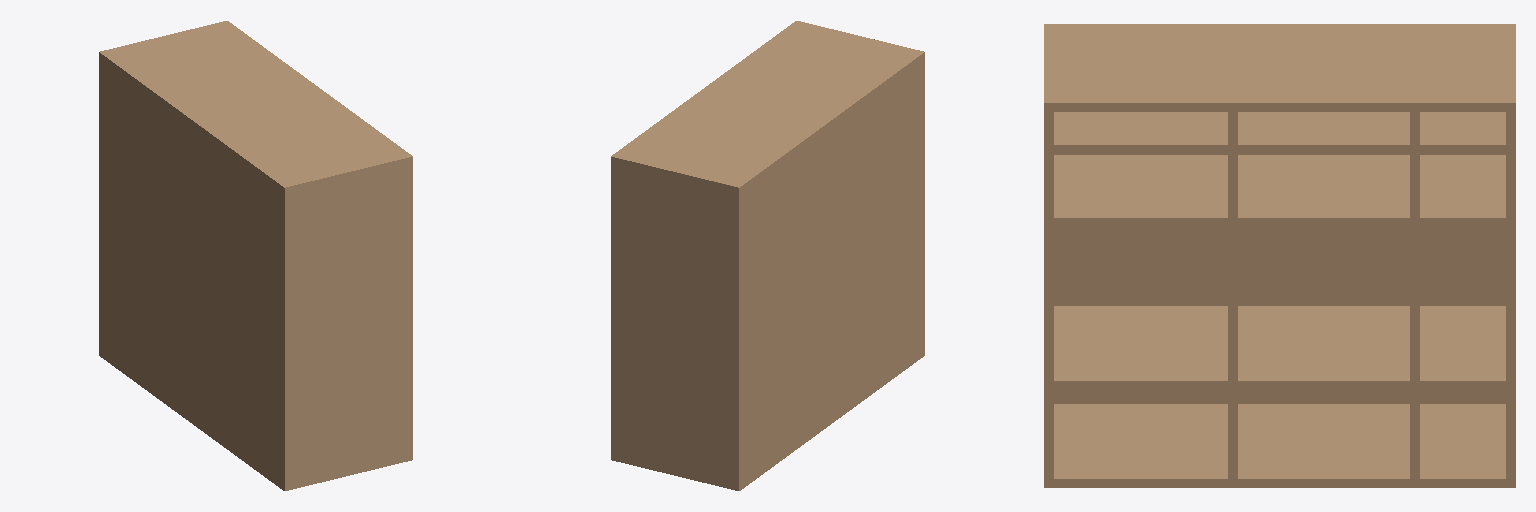
URDF robot description (plane):
<?xml version="2.0" ?> 
<robot name="plane"> 

  <link name="shelve_bottom">
    <contact>
        <lateral_friction value="1"/>
    </contact>

    <inertial>
      <origin rpy="0 0 0" xyz="0 0 0"/>
      <mass value=".0"/>
      <inertia ixx="0" ixy="0" ixz="0" iyy="0" iyz="0" izz="0"/>
    </inertial>

    <visual>
      <origin rpy="0 0 0" xyz="0.0 0.0 0.012141786804520277"/>
      <geometry>
        <box size="0.457116658030754 1.1431834918243162 0.024283573609040553"/>
      </geometry>
      <material name="table_gray"/>
    </visual>

    <collision>
      <origin rpy="0 0 0" xyz="0.0 0.0 0.012141786804520277"/>
      <geometry>
        <box size="0.457116658030754 1.1431834918243162 0.024283573609040553"/>
      </geometry>
    </collision>

  </link>

  <link name="shelve_top">
    <contact>
        <lateral_friction value="1"/>
    </contact>

    <inertial>
      <origin rpy="0 0 0" xyz="0 0 0"/>
      <mass value=".0"/>
      <inertia ixx="0" ixy="0" ixz="0" iyy="0" iyz="0" izz="0"/>
    </inertial>

    <visual>
      <origin rpy="0 0 0" xyz="0.0 0.0 1.0190993803457882"/>
      <geometry>
        <box size="0.457116658030754 1.1431834918243162 0.024283573609040553"/>
      </geometry>
      <material name="table_gray"/>
    </visual>

    <collision>
      <origin rpy="0 0 0" xyz="0.0 0.0 1.0190993803457882"/>
      <geometry>
        <box size="0.457116658030754 1.1431834918243162 0.024283573609040553"/>
      </geometry>
    </collision>

  </link>

  <joint name="joint_bt" type="fixed">
    <parent link="shelve_bottom"/>
    <child link="shelve_top"/>
    <origin rpy="0 0 0.0" xyz="0 0 0.0"/>
  </joint>

  <link name="shelve_back">
    <contact>
        <lateral_friction value="1"/>
    </contact>

    <inertial>
      <origin rpy="0 0 0" xyz="0 0 0"/>
      <mass value=".0"/>
      <inertia ixx="0" ixy="0" ixz="0" iyy="0" iyz="0" izz="0"/>
    </inertial>

    <visual>
      <origin rpy="0 0 0" xyz="-0.21641654221085674 0 0.5156205835751543"/>
      <geometry>
        <box size="0.024283573609040553 1.1431834918243162 0.9826740199322275"/>
      </geometry>
      <material name="table_gray"/>
    </visual>

    <collision>
      <origin rpy="0 0 0" xyz="-0.21641654221085674 0 0.5156205835751543"/>
      <geometry>
        <box size="0.024283573609040553 1.1431834918243162 0.9826740199322275"/>
      </geometry>
    </collision>

  </link>

  <joint name="joint2_bb" type="fixed">
    <parent link="shelve_bottom"/>
    <child link="shelve_back"/>
    <origin rpy="0 0 0.0" xyz="0 0 0.0"/>
  </joint>

  <link name="shelve_left">
    <contact>
        <lateral_friction value="1"/>
    </contact>

    <inertial>
      <origin rpy="0 0 0" xyz="0 0 0"/>
      <mass value=".0"/>
      <inertia ixx="0" ixy="0" ixz="0" iyy="0" iyz="0" izz="0"/>
    </inertial>

    <visual>
      <origin rpy="0 0 0" xyz="0.012141786804520277 -0.5594499591076378 0.5156205835751543"/>
      <geometry>
        <box size="0.4328330844217135 0.024283573609040553 0.9826740199322275"/>
      </geometry>
      <material name="table_gray"/>
    </visual>

    <collision>
      <origin rpy="0 0 0" xyz="0.012141786804520277 -0.5594499591076378 0.5156205835751543"/>
      <geometry>
        <box size="0.4328330844217135 0.024283573609040553 0.9826740199322275"/>
      </geometry>
    </collision>

  </link>

  <joint name="joint_bl" type="fixed">
    <parent link="shelve_bottom"/>
    <child link="shelve_left"/>
    <origin rpy="0 0 0.0" xyz="0 0 0.0"/>
  </joint>

  <link name="shelve_right">
    <contact>
        <lateral_friction value="1"/>
    </contact>

    <inertial>
      <origin rpy="0 0 0" xyz="0 0 0"/>
      <mass value=".0"/>
      <inertia ixx="0" ixy="0" ixz="0" iyy="0" iyz="0" izz="0"/>
    </inertial>

    <visual>
      <origin rpy="0 0 0" xyz="0.012141786804520277 0.5594499591076378 0.5156205835751543"/>
      <geometry>
        <box size="0.4328330844217135 0.024283573609040553 0.9826740199322275"/>
      </geometry>
      <material name="table_gray"/>
    </visual>

    <collision>
      <origin rpy="0 0 0" xyz="0.012141786804520277 0.5594499591076378 0.5156205835751543"/>
      <geometry>
        <box size="0.4328330844217135 0.024283573609040553 0.9826740199322275"/>
      </geometry>
    </collision>

  </link>

  <joint name="joint_br" type="fixed">
    <parent link="shelve_bottom"/>
    <child link="shelve_right"/>
    <origin rpy="0 0 0.0" xyz="0 0 0.0"/>
  </joint>

  <link name="shelve_vertical_0">
    <contact>
        <lateral_friction value="1"/>
    </contact>

    <inertial>
      <origin rpy="0 0 0" xyz="0 0 0"/>
      <mass value=".0"/>
      <inertia ixx="0" ixy="0" ixz="0" iyy="0" iyz="0" izz="0"/>
    </inertial>

    <visual>
      <origin rpy="0 0 0" xyz="0.012141786804520277 -0.11298209349287808 0.5156205835751543"/>
      <geometry>
        <box size="0.4328330844217135 0.024283573609040553 0.9826740199322275"/>
      </geometry>
      <material name="table_gray"/>
    </visual>

    <collision>
      <origin rpy="0 0 0" xyz="0.012141786804520277 -0.11298209349287808 0.5156205835751543"/>
      <geometry>
        <box size="0.4328330844217135 0.024283573609040553 0.9826740199322275"/>
      </geometry>
    </collision>

  </link>

  <joint name="joint_bv0" type="fixed">
    <parent link="shelve_bottom"/>
    <child link="shelve_vertical_0"/>
    <origin rpy="0 0 0.0" xyz="0 0 0.0"/>
  </joint>

  <link name="shelve_vertical_1">
    <contact>
        <lateral_friction value="1"/>
    </contact>

    <inertial>
      <origin rpy="0 0 0" xyz="0 0 0"/>
      <mass value=".0"/>
      <inertia ixx="0" ixy="0" ixz="0" iyy="0" iyz="0" izz="0"/>
    </inertial>

    <visual>
      <origin rpy="0 0 0" xyz="0.012141786804520277 0.32764925520487354 0.5156205835751543"/>
      <geometry>
        <box size="0.4328330844217135 0.024283573609040553 0.9826740199322275"/>
      </geometry>
      <material name="table_gray"/>
    </visual>

    <collision>
      <origin rpy="0 0 0" xyz="0.012141786804520277 0.32764925520487354 0.5156205835751543"/>
      <geometry>
        <box size="0.4328330844217135 0.024283573609040553 0.9826740199322275"/>
      </geometry>
    </collision>

  </link>

  <joint name="joint_bv1" type="fixed">
    <parent link="shelve_bottom"/>
    <child link="shelve_vertical_1"/>
    <origin rpy="0 0 0.0" xyz="0 0 0.0"/>
  </joint>

  <link name="shelve_horizontal_0">
    <contact>
        <lateral_friction value="1"/>
    </contact>

    <inertial>
      <origin rpy="0 0 0" xyz="0 0 0"/>
      <mass value=".0"/>
      <inertia ixx="0" ixy="0" ixz="0" iyy="0" iyz="0" izz="0"/>
    </inertial>

    <visual>
      <origin rpy="0 0 0" xyz="0.012141786804520277 0 0.9059865039048551"/>
      <geometry>
        <box size="0.4328330844217135 1.0946163446062351 0.024283573609040553"/>
      </geometry>
      <material name="table_gray"/>
    </visual>

    <collision>
      <origin rpy="0 0 0" xyz="0.012141786804520277 0 0.9059865039048551"/>
      <geometry>
        <box size="0.4328330844217135 1.0946163446062351 0.024283573609040553"/>
      </geometry>
    </collision>

  </link>

  <joint name="joint_hv0" type="fixed">
    <parent link="shelve_bottom"/>
    <child link="shelve_horizontal_0"/>
    <origin rpy="0 0 0.0" xyz="0 0 0.0"/>
  </joint>

  <link name="shelve_horizontal_1">
    <contact>
        <lateral_friction value="1"/>
    </contact>

    <inertial>
      <origin rpy="0 0 0" xyz="0 0 0"/>
      <mass value=".0"/>
      <inertia ixx="0" ixy="0" ixz="0" iyy="0" iyz="0" izz="0"/>
    </inertial>

    <visual>
      <origin rpy="0 0 0" xyz="0.012141786804520277 0 0.2746400339354751"/>
      <geometry>
        <box size="0.4328330844217135 1.0946163446062351 0.024283573609040553"/>
      </geometry>
      <material name="table_gray"/>
    </visual>

    <collision>
      <origin rpy="0 0 0" xyz="0.012141786804520277 0 0.2746400339354751"/>
      <geometry>
        <box size="0.4328330844217135 1.0946163446062351 0.024283573609040553"/>
      </geometry>
    </collision>

  </link>

  <joint name="joint_hv1" type="fixed">
    <parent link="shelve_bottom"/>
    <child link="shelve_horizontal_1"/>
    <origin rpy="0 0 0.0" xyz="0 0 0.0"/>
  </joint>

  <link name="shelve_horizontal_2">
    <contact>
        <lateral_friction value="1"/>
    </contact>

    <inertial>
      <origin rpy="0 0 0" xyz="0 0 0"/>
      <mass value=".0"/>
      <inertia ixx="0" ixy="0" ixz="0" iyy="0" iyz="0" izz="0"/>
    </inertial>

    <visual>
      <origin rpy="0 0 0" xyz="0.012141786804520277 0 0.7112597148070812"/>
      <geometry>
        <box size="0.4328330844217135 1.0946163446062351 0.024283573609040553"/>
      </geometry>
      <material name="table_gray"/>
    </visual>

    <collision>
      <origin rpy="0 0 0" xyz="0.012141786804520277 0 0.7112597148070812"/>
      <geometry>
        <box size="0.4328330844217135 1.0946163446062351 0.024283573609040553"/>
      </geometry>
    </collision>

  </link>

  <joint name="joint_hv2" type="fixed">
    <parent link="shelve_bottom"/>
    <child link="shelve_horizontal_2"/>
    <origin rpy="0 0 0.0" xyz="0 0 0.0"/>
  </joint>

  <material name="table_gray">
    <color rgba=".7686 .6431 .5176 1."/>
  </material>
</robot>

--- What the picture shows (computed from the rendered views, not written in the file) ---
Views: 3 orthographic renders of the robot side by side, from view 1: azimuth 30°, elevation 25°; view 2: azimuth 150°, elevation 25°; view 3: azimuth 270°, elevation 25°.
Model plane with 10 links and 9 joints (9 fixed), rooted at shelve_bottom, posed all joints at 0.
Visible links, largest first — view 1: shelve_back, shelve_left, shelve_top, shelve_bottom; view 2: shelve_back, shelve_right, shelve_top, shelve_bottom; view 3: shelve_top, shelve_back, shelve_bottom, shelve_horizontal_1, shelve_horizontal_2, shelve_horizontal_0, shelve_left, shelve_right, shelve_vertical_0, shelve_vertical_1.
Boxes of the visible links, left/top/right/bottom form: shelve_back: left=99, top=60, right=290, bottom=483; shelve_left: left=291, top=164, right=412, bottom=482; shelve_top: left=99, top=21, right=412, bottom=194; shelve_bottom: left=99, top=349, right=412, bottom=490; shelve_back: left=733, top=60, right=924, bottom=483; shelve_right: left=611, top=164, right=732, bottom=482; shelve_top: left=611, top=21, right=924, bottom=194; shelve_bottom: left=611, top=349, right=924, bottom=490; shelve_top: left=1044, top=24, right=1515, bottom=111; shelve_back: left=1054, top=227, right=1505, bottom=403; shelve_bottom: left=1044, top=404, right=1515, bottom=487; shelve_horizontal_1: left=1054, top=306, right=1505, bottom=389; shelve_horizontal_2: left=1054, top=155, right=1505, bottom=226; shelve_horizontal_0: left=1054, top=112, right=1505, bottom=154; shelve_left: left=1044, top=112, right=1053, bottom=478; shelve_right: left=1506, top=112, right=1515, bottom=478; shelve_vertical_0: left=1228, top=112, right=1237, bottom=478; shelve_vertical_1: left=1410, top=112, right=1419, bottom=478.
Size in the robot's own frame: 0.4571 by 1.14 by 1.03 metres.
Geometry: primitives only (box / cylinder / sphere), no mesh files.